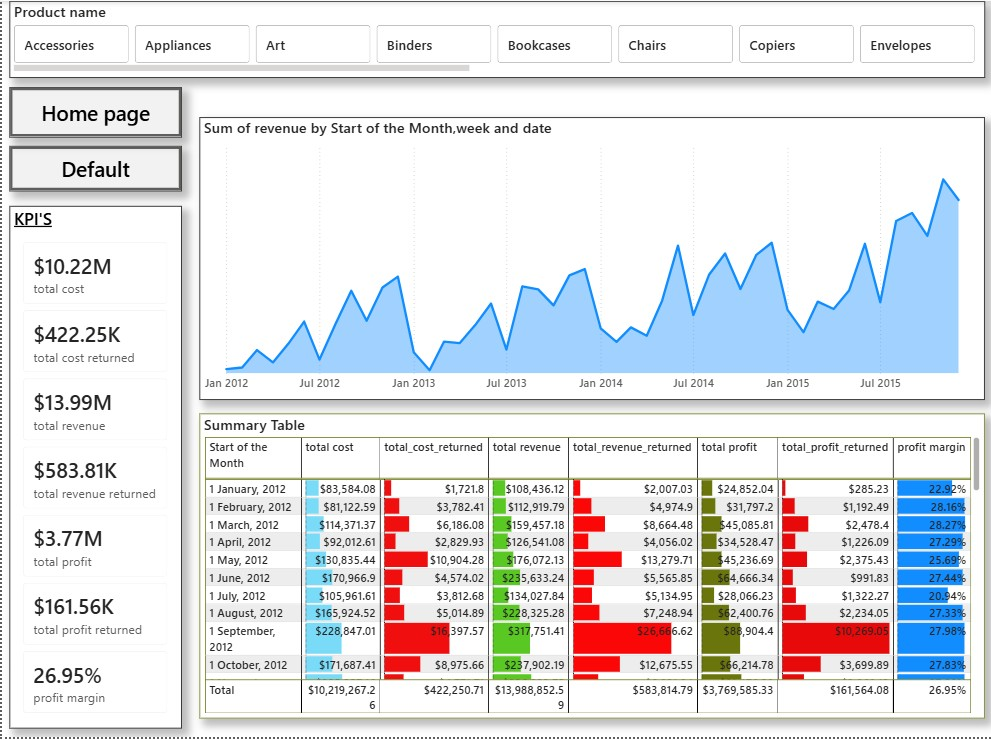

This screenshot's page, from the dashboard's own definition file:
{"tool":"powerbi","page":{"name":"Sales","canvas":[1280,950],"ordinal":3},"visuals":[{"type":"cardVisual","title":"KPI''S","fields":{"Data":["dim category.total cost","dim category.total cost returned","dim category.total revenue","dim category.total revenue returned","dim category.total profit","dim category.total profit returned","dim category.profit margin"]},"box":[9.7,264.6,222.7,674.4],"z":0},{"type":"tableEx","title":"Summary Table","fields":{"Values":["dim date.Start of the Month","dim category and kpi measures.total cost","return_table.total_cost_returned","dim category and kpi measures.total revenue","return_table.total_revenue_returned","dim category and kpi measures.total profit","return_table.total_profit_returned","dim category and kpi measures.profit margin"]},"box":[254.9,532.4,1013.3,393.7],"z":1000},{"type":"areaChart","title":"Sum of revenue by Start of the Month,week and date","fields":{"Category":["dim date.Start of the Month","dim date.start of week","dim date.Date"],"Y":["Sum(sales.revenue)"]},"box":[254.9,150.1,1013.3,364.6],"z":2000},{"type":"advancedSlicerVisual","title":"Product name","fields":{"Values":["dim product.sub category"]},"box":[9.2,0,1259.5,99.4],"z":3000},{"type":"actionButton","box":[9.7,187.2,222.7,58.1],"z":4000},{"type":"actionButton","box":[9.7,111.3,222.7,64.5],"z":5000}]}

Visuals, with their boxes in screenshot pixels (x1, y1, x2, y2), scaled from the page's 1280x950 canvas onto the 991x740 screenshot:
"KPI''S" cardVisual: 8/206/180/731
"Summary Table" tableEx: 197/415/982/721
"Sum of revenue by Start of the Month,week and date" areaChart: 197/117/982/401
"Product name" advancedSlicerVisual: 7/0/982/77
actionButton: 8/146/180/191
actionButton: 8/87/180/137
